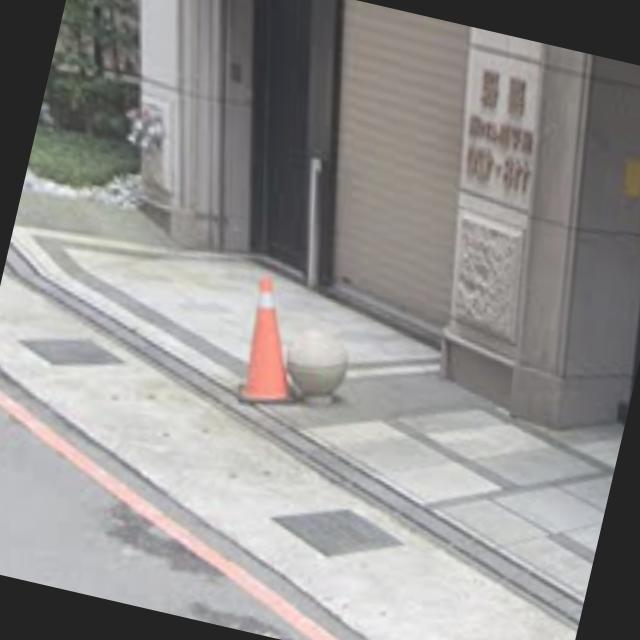cone: (232, 266, 314, 411)
